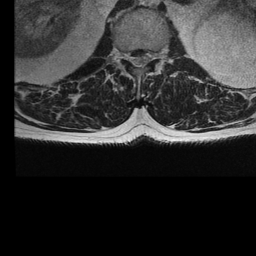CCS_normal: (135, 43, 142, 75)
LFS_normal: (151, 41, 159, 67)
LLS_normal: (142, 41, 150, 72)
RFS_normal: (120, 42, 127, 67)
RLS_normal: (127, 43, 135, 71)
